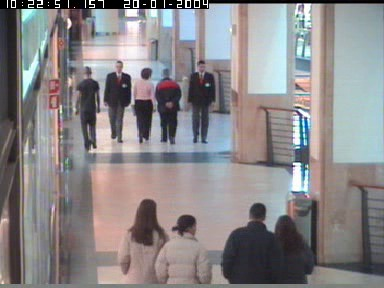person: (221, 202, 285, 284), (118, 199, 168, 284), (154, 216, 212, 284), (271, 214, 313, 283), (186, 61, 216, 144), (102, 59, 129, 142), (74, 67, 100, 151), (156, 69, 182, 145), (131, 69, 155, 143), (67, 16, 73, 53)
